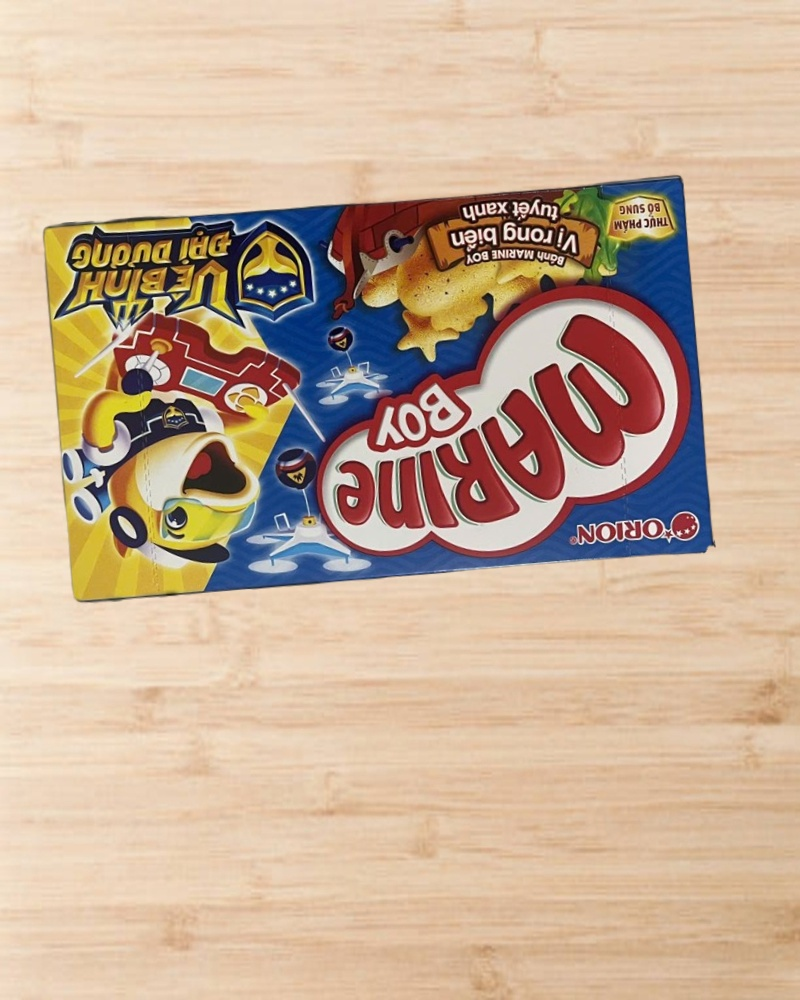Marine: (40, 171, 716, 608)
